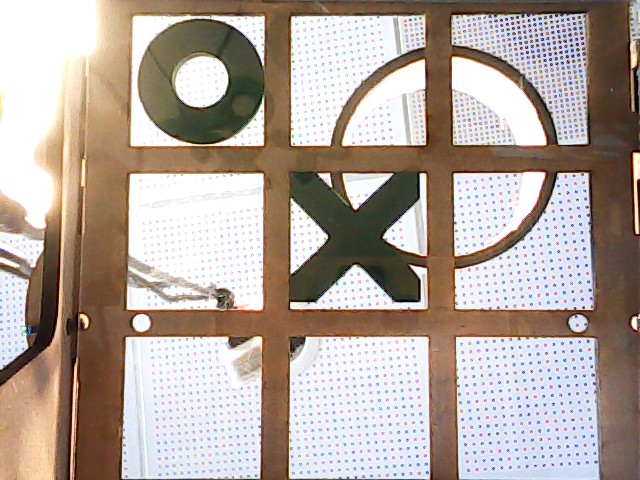O: (134, 20, 262, 145)
X: (289, 172, 425, 306)
